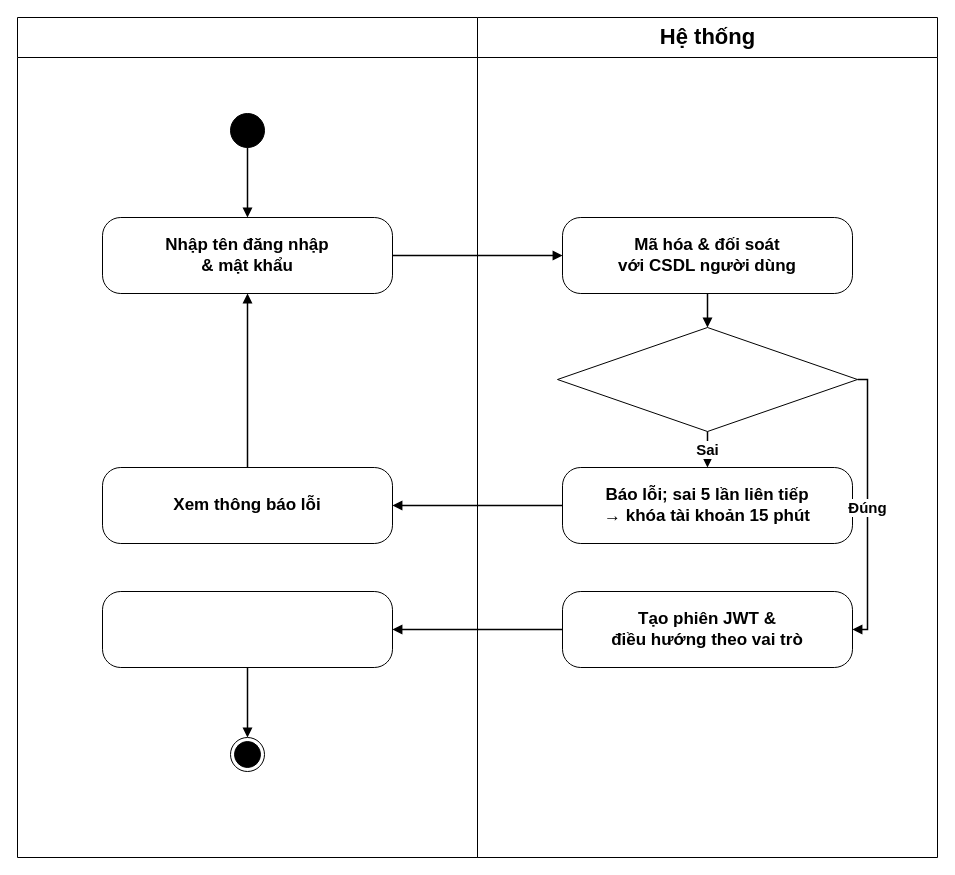
Image size: 955x875. Some labels were removed from this diagram. The shapes that lost their labels are listed below. From the top down, each one's box as (x1, y1, x2, y2) in pixels, then its label:
(556, 326, 858, 432): Thông tin đúng?
(16, 16, 478, 858): Nhân viên
(102, 590, 392, 668): Vào giao diện theo vai trò
